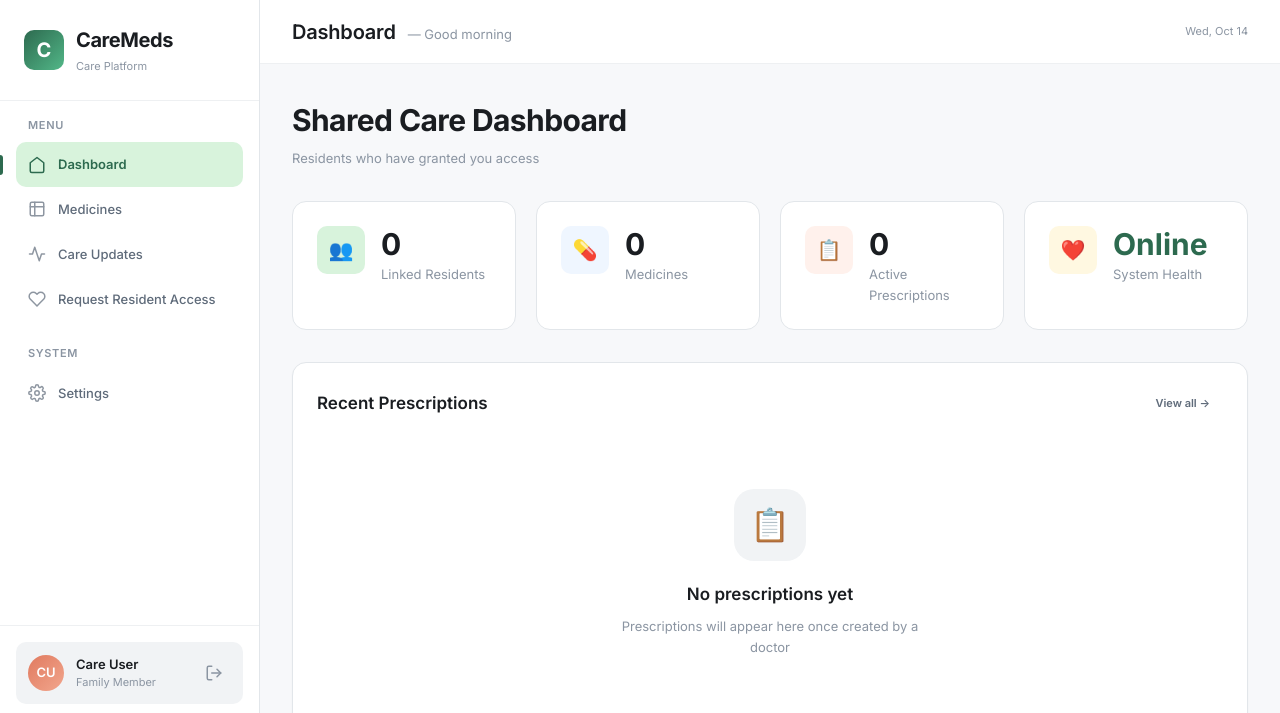
Test: CareMeds role-based application surfaces › shows the contact request form to family members without staff stock actions
Expected: the heading "Shared Care Dashboard" is shown, [292, 96, 626, 144]
Click the button "Care Updates". click: (130,254)
box: [16, 232, 243, 277]
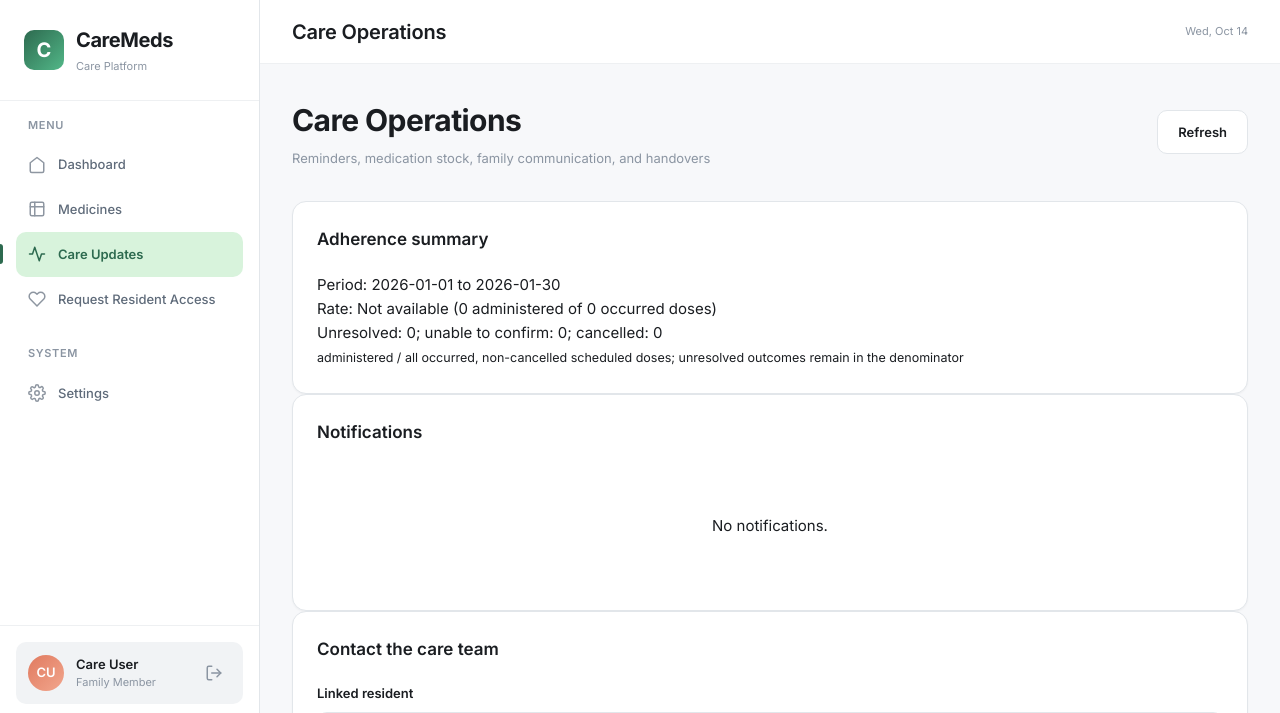
Now the heading "Contact the care team" is shown, box [317, 636, 499, 663]
